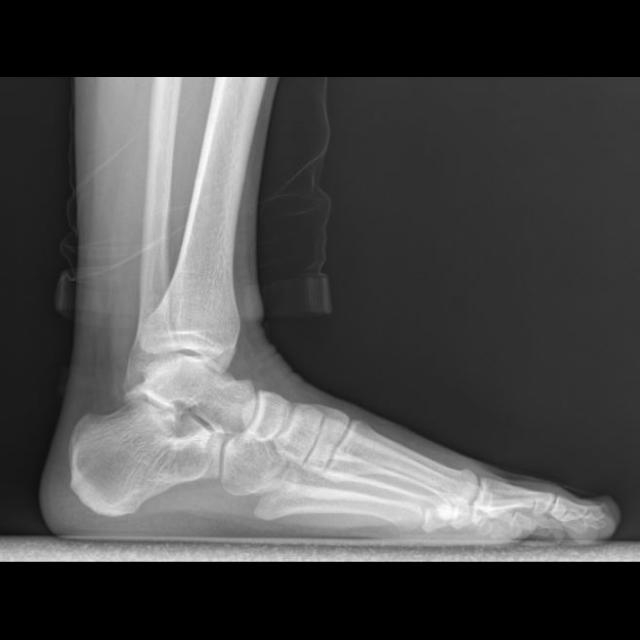a: (68, 399, 223, 517)
b: (246, 390, 288, 442)
c: (322, 420, 478, 508)
